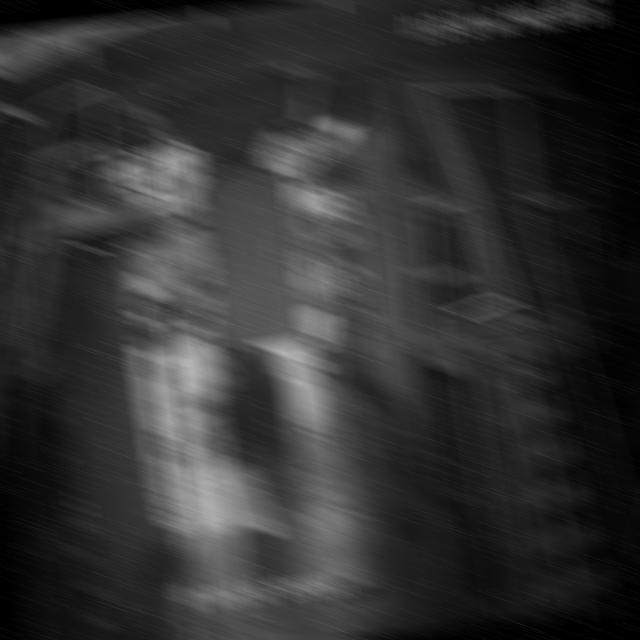cement_mixer_truck: (194, 277, 299, 449)
